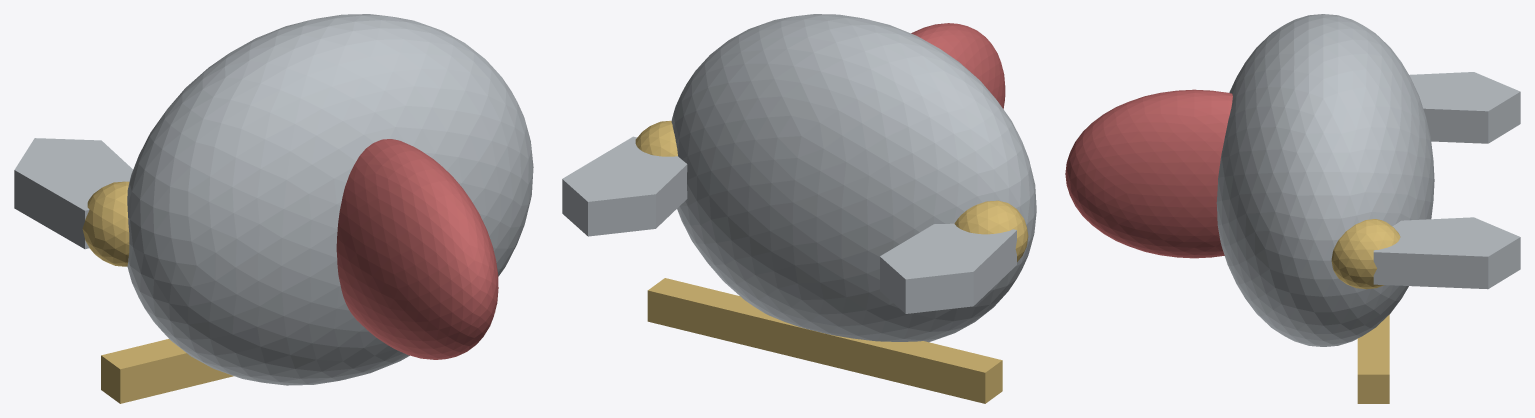
File: captain_helmet_red_crest.glb
3 renders of one model, left to right at view 1: azimuth 30°, elevation 25°; view 2: azimuth 150°, elevation 25°; view 3: azimuth 270°, elevation 25°, orthographic. The views are drawn at different scales.
Parts seen in each view (by area): view 1: steel_dome, red_crest, cheek_guard, gold_brow_band, gold_ear_disc; view 2: steel_dome, cheek_guard (×2), gold_brow_band, gold_ear_disc (×2), red_crest; view 3: steel_dome, red_crest, cheek_guard (×2), gold_ear_disc, gold_brow_band.
Boxes of the visible parts, x1,y1,x2,y2 form: steel_dome: (127,14,533,385); red_crest: (336,139,498,359); cheek_guard: (14,138,132,249); gold_brow_band: (101,312,495,403); gold_ear_disc: (82,181,129,266); steel_dome: (671,14,1036,342); cheek_guard (×2): (562,136,1016,313); gold_brow_band: (647,278,1002,403); gold_ear_disc (×2): (635,120,1028,261); red_crest: (911,23,1005,108); steel_dome: (1216,14,1434,346); red_crest: (1065,89,1232,258); cheek_guard (×2): (1373,72,1520,289); gold_ear_disc: (1331,219,1400,289); gold_brow_band: (1357,315,1389,403).
Bounding box in the file's own units: 1.22 × 0.9 × 1.27.
